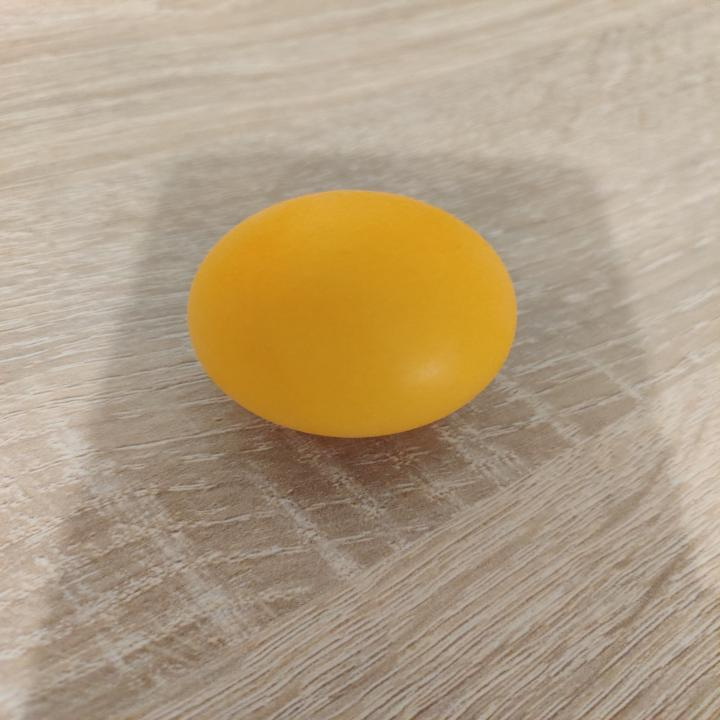orange: (185, 187, 521, 442)
